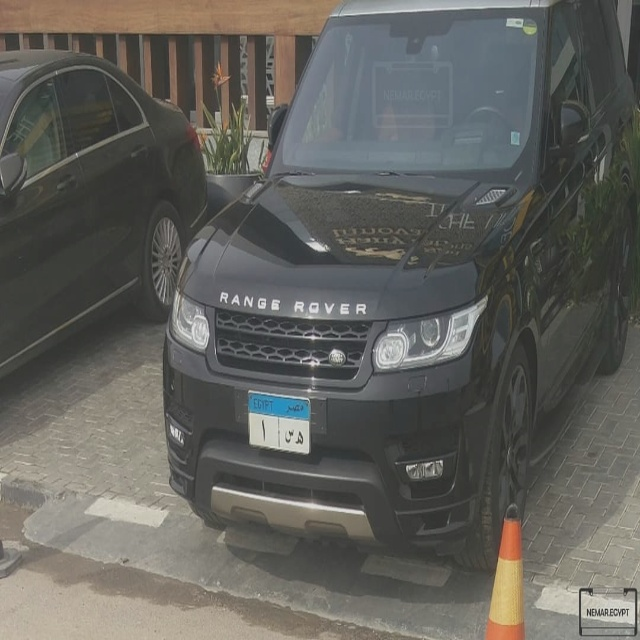License Plate: (246, 388, 313, 456)
